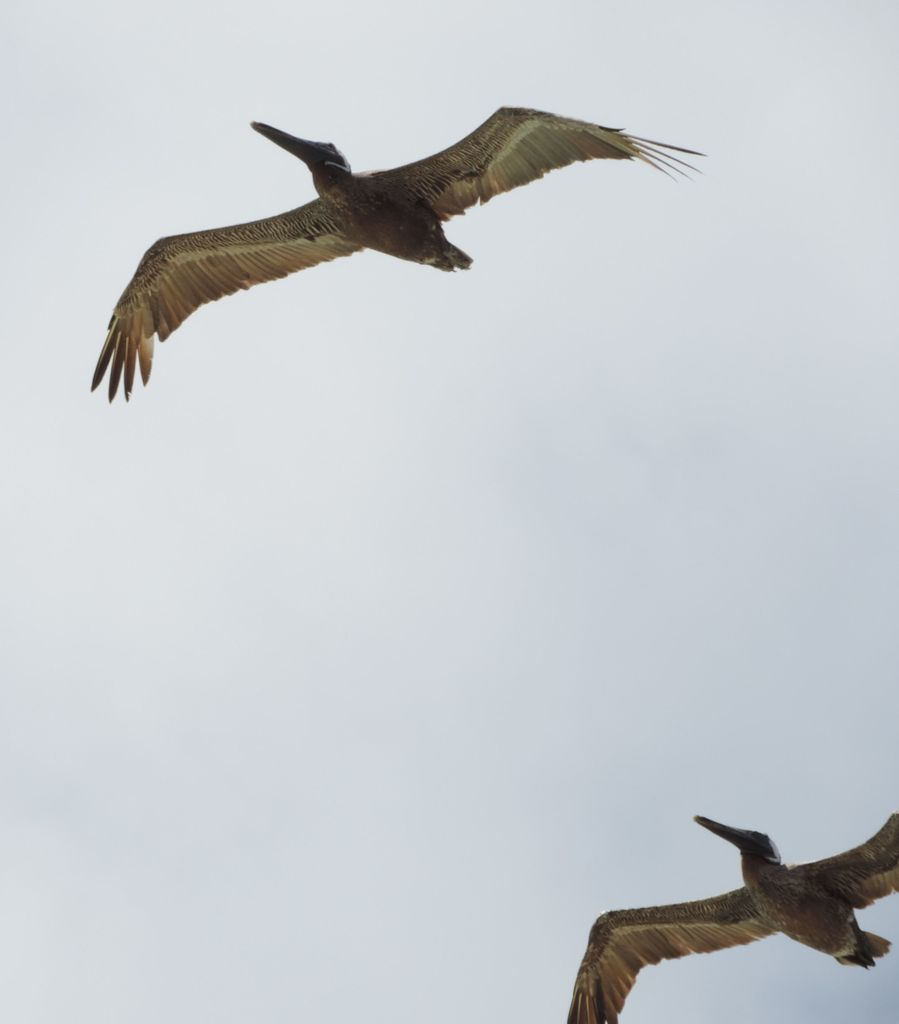Bird: (90, 106, 708, 405), (566, 811, 899, 1024)
